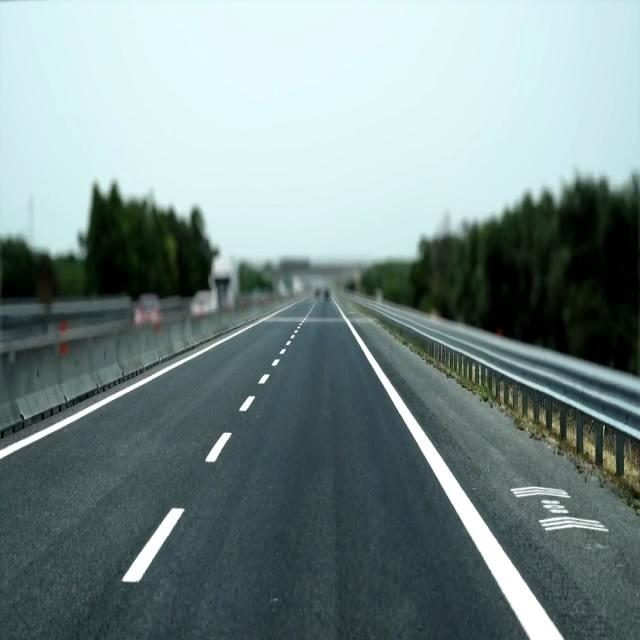lane: (334, 300, 564, 639), (1, 302, 299, 459), (122, 508, 183, 582), (205, 432, 231, 462)
road: (0, 299, 527, 639), (353, 318, 639, 639)
